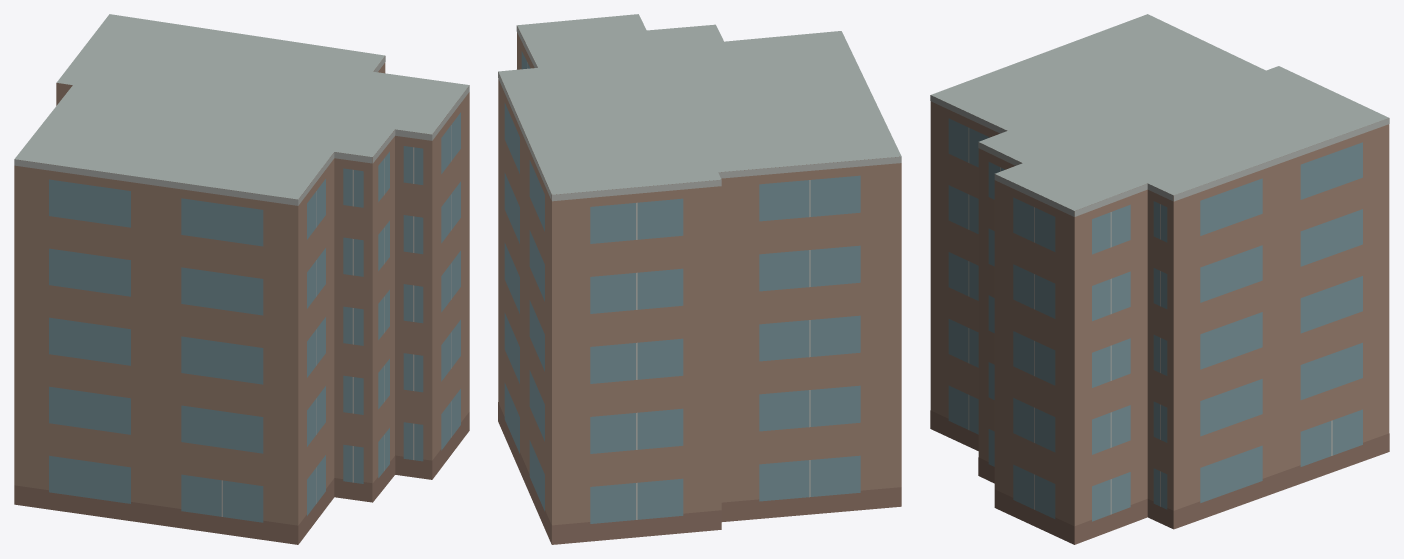
Rendered from survey-upis-32533711.glb.
The picture shows the model from 3 angles, left to right: view 1: azimuth 30°, elevation 25°; view 2: azimuth 150°, elevation 25°; view 3: azimuth 270°, elevation 25°; orthographic projection. The views are drawn at different scales.
Parts seen in each view (by area): view 1: survey-upis-32533711.tmp; view 2: survey-upis-32533711.tmp; view 3: survey-upis-32533711.tmp.
Part boxes in pixels (x1,y1,x2,y2): survey-upis-32533711.tmp: (14, 14, 469, 544); survey-upis-32533711.tmp: (498, 14, 901, 544); survey-upis-32533711.tmp: (930, 14, 1389, 544).
Size of the model in its own units: 16.71 by 13.2 by 16.45.
